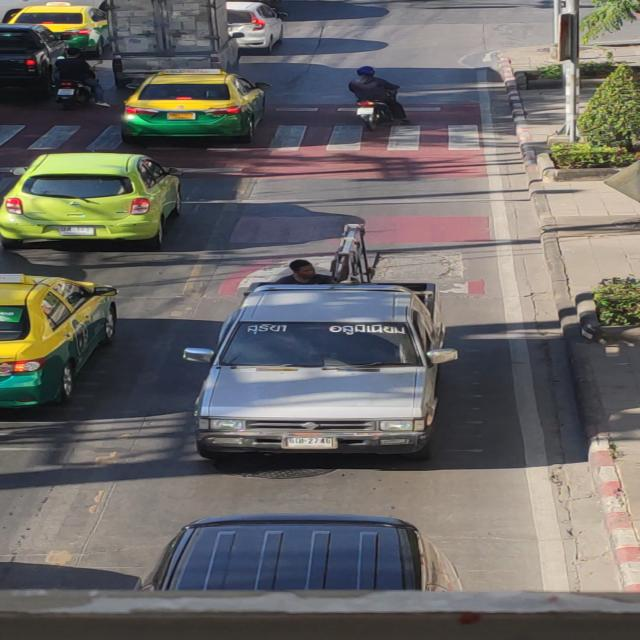car: (169, 284, 464, 458)
